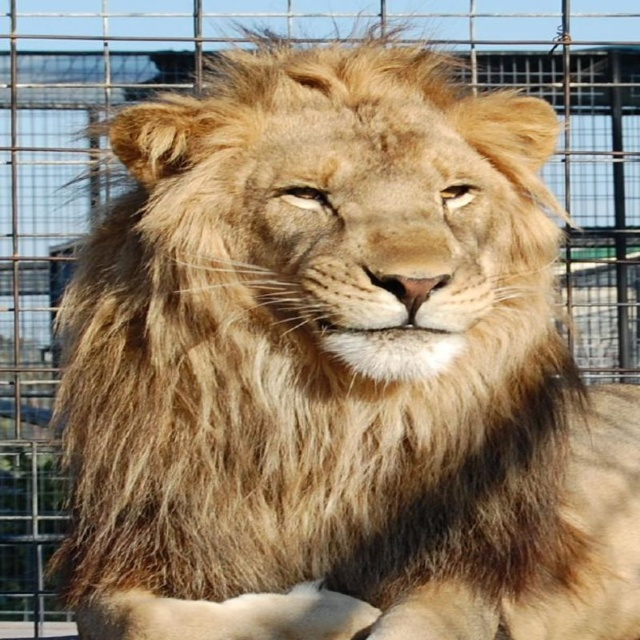Lion: (41, 0, 639, 639)
